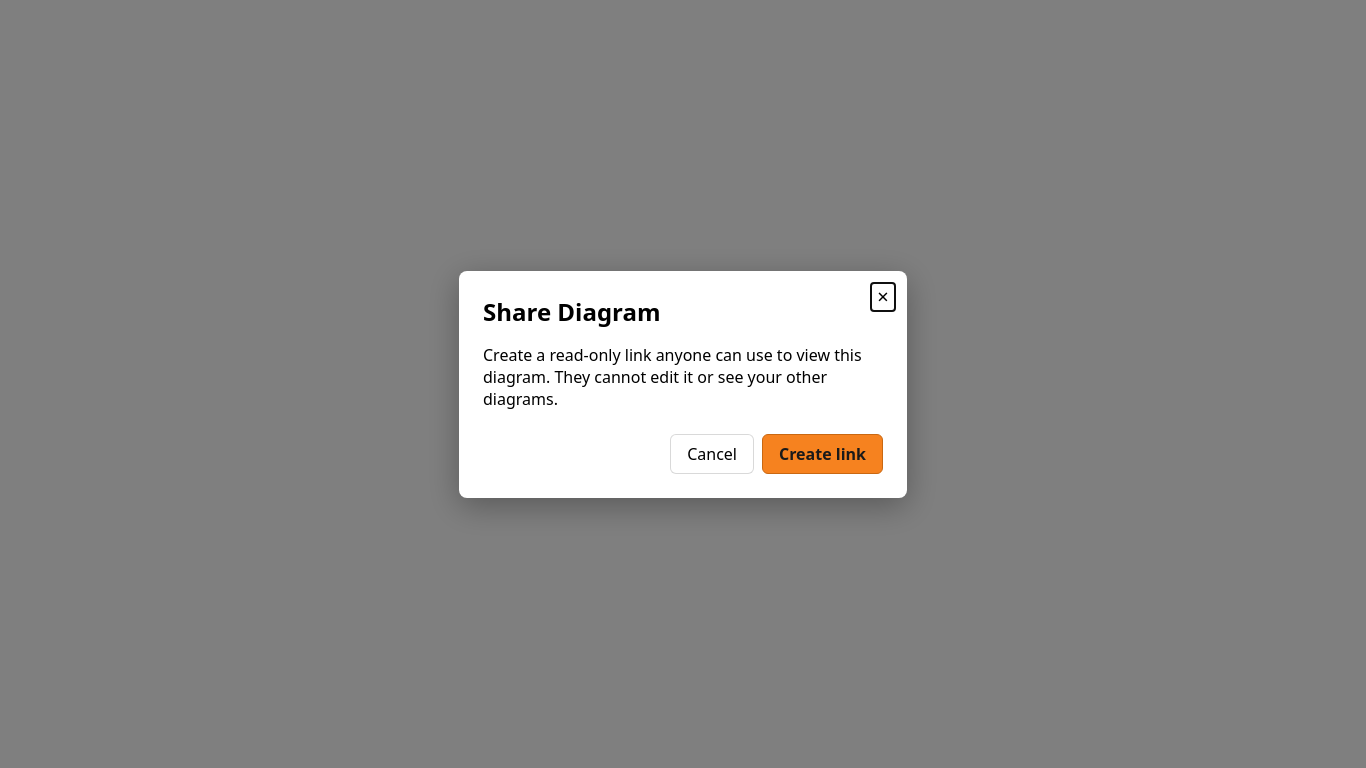
ShareModal › shows an error state when creating a link fails
What coordinates should you click on to do the following:
click the button "Create link"
I would click on:
 (822, 454)
Its box is left=762, top=434, right=883, bottom=474.
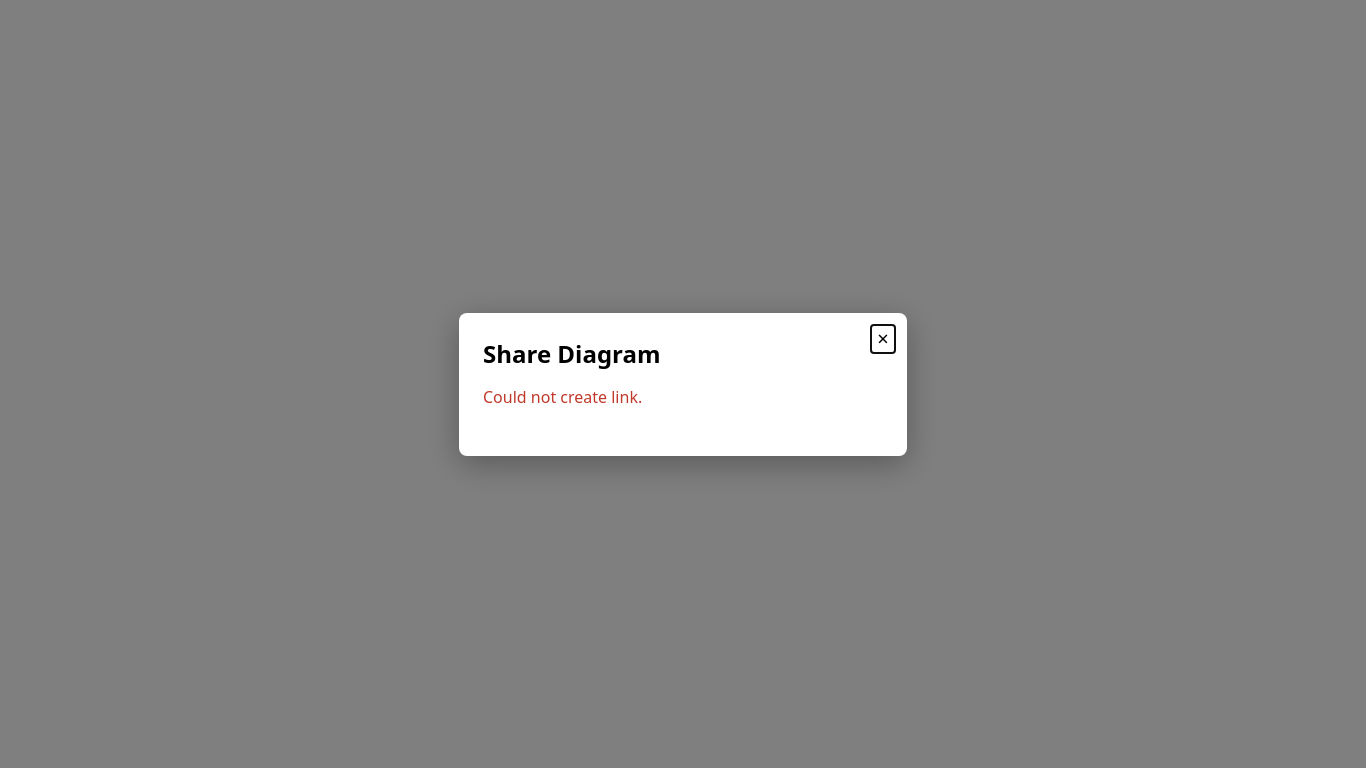
Expected: the message reads "Could not create link.", left=483, top=386, right=642, bottom=408
